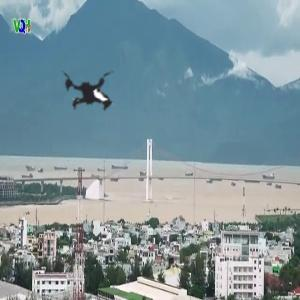drone: (30, 40, 145, 155)
